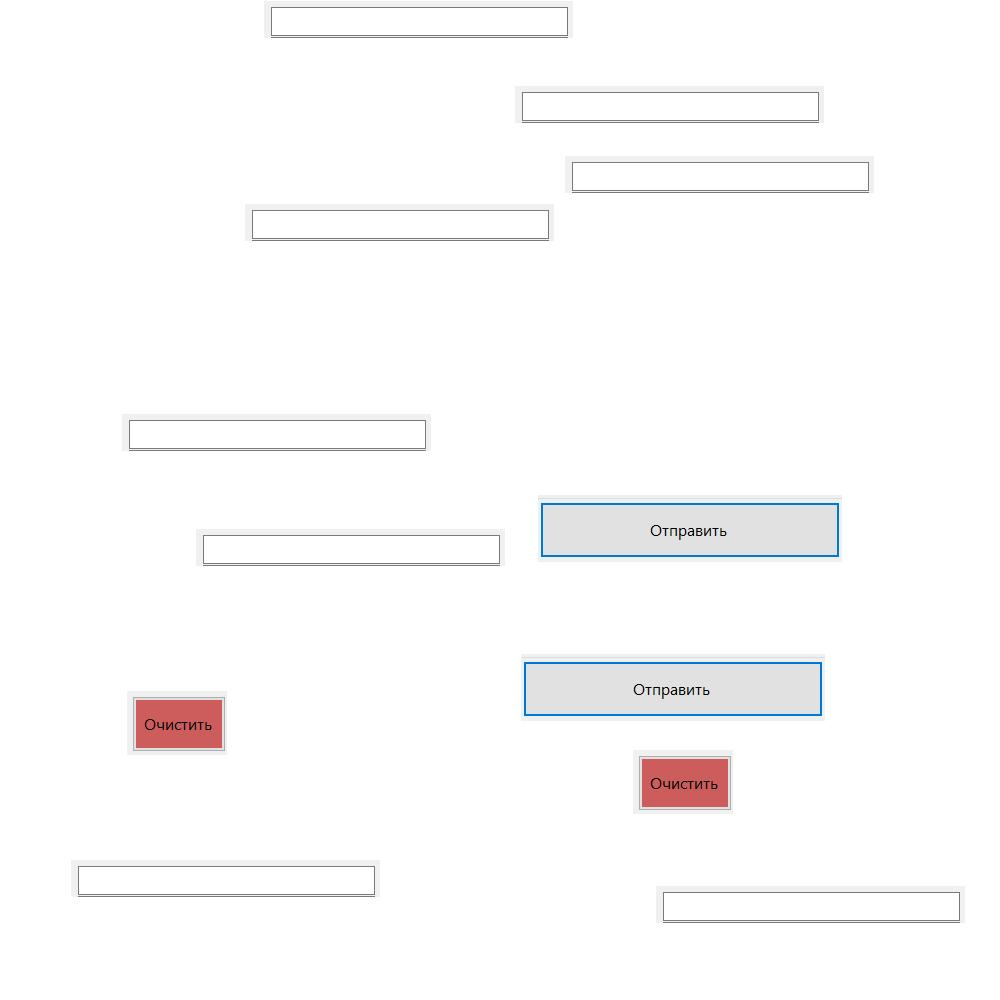Button: (538, 495, 842, 562), (521, 654, 825, 721), (633, 750, 733, 814), (127, 691, 227, 755)
EditText-: (565, 156, 874, 193), (245, 204, 554, 241), (515, 86, 824, 123), (71, 860, 380, 897), (122, 414, 431, 451), (196, 529, 505, 566), (656, 886, 965, 923), (264, 1, 573, 38)
